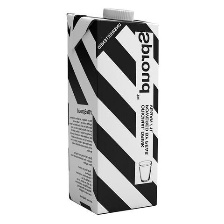carton: (62, 6, 166, 217)
